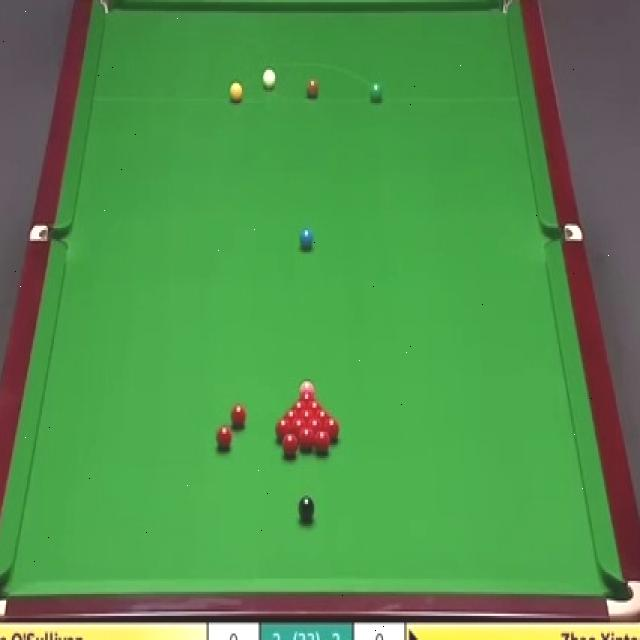black-ball: (297, 493, 315, 523)
blue-ball: (301, 228, 314, 253)
brown-ball: (304, 81, 317, 100)
green-ball: (370, 82, 382, 103)
pink-ball: (299, 376, 315, 395)
red-ball: (215, 426, 235, 453), (298, 426, 315, 453), (281, 434, 298, 460), (322, 418, 341, 440), (230, 402, 246, 428), (275, 418, 292, 440), (315, 432, 332, 454), (290, 417, 308, 434), (308, 419, 322, 438), (305, 401, 325, 412), (314, 409, 332, 421), (298, 410, 316, 421), (297, 390, 316, 400), (289, 401, 306, 411), (284, 410, 298, 422)
white-ball: (260, 66, 278, 92)
yellow-ball: (229, 80, 244, 103)
